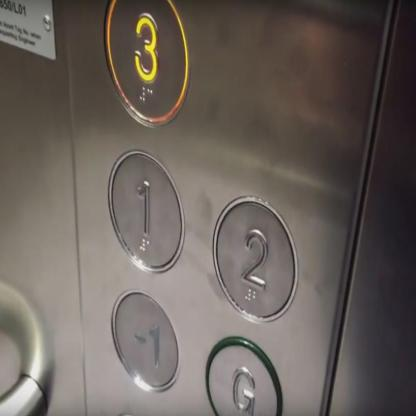-1: (110, 286, 180, 392)
1: (105, 146, 186, 273)
2: (210, 192, 299, 324)
3: (101, 0, 190, 129)
G: (204, 334, 284, 414)
